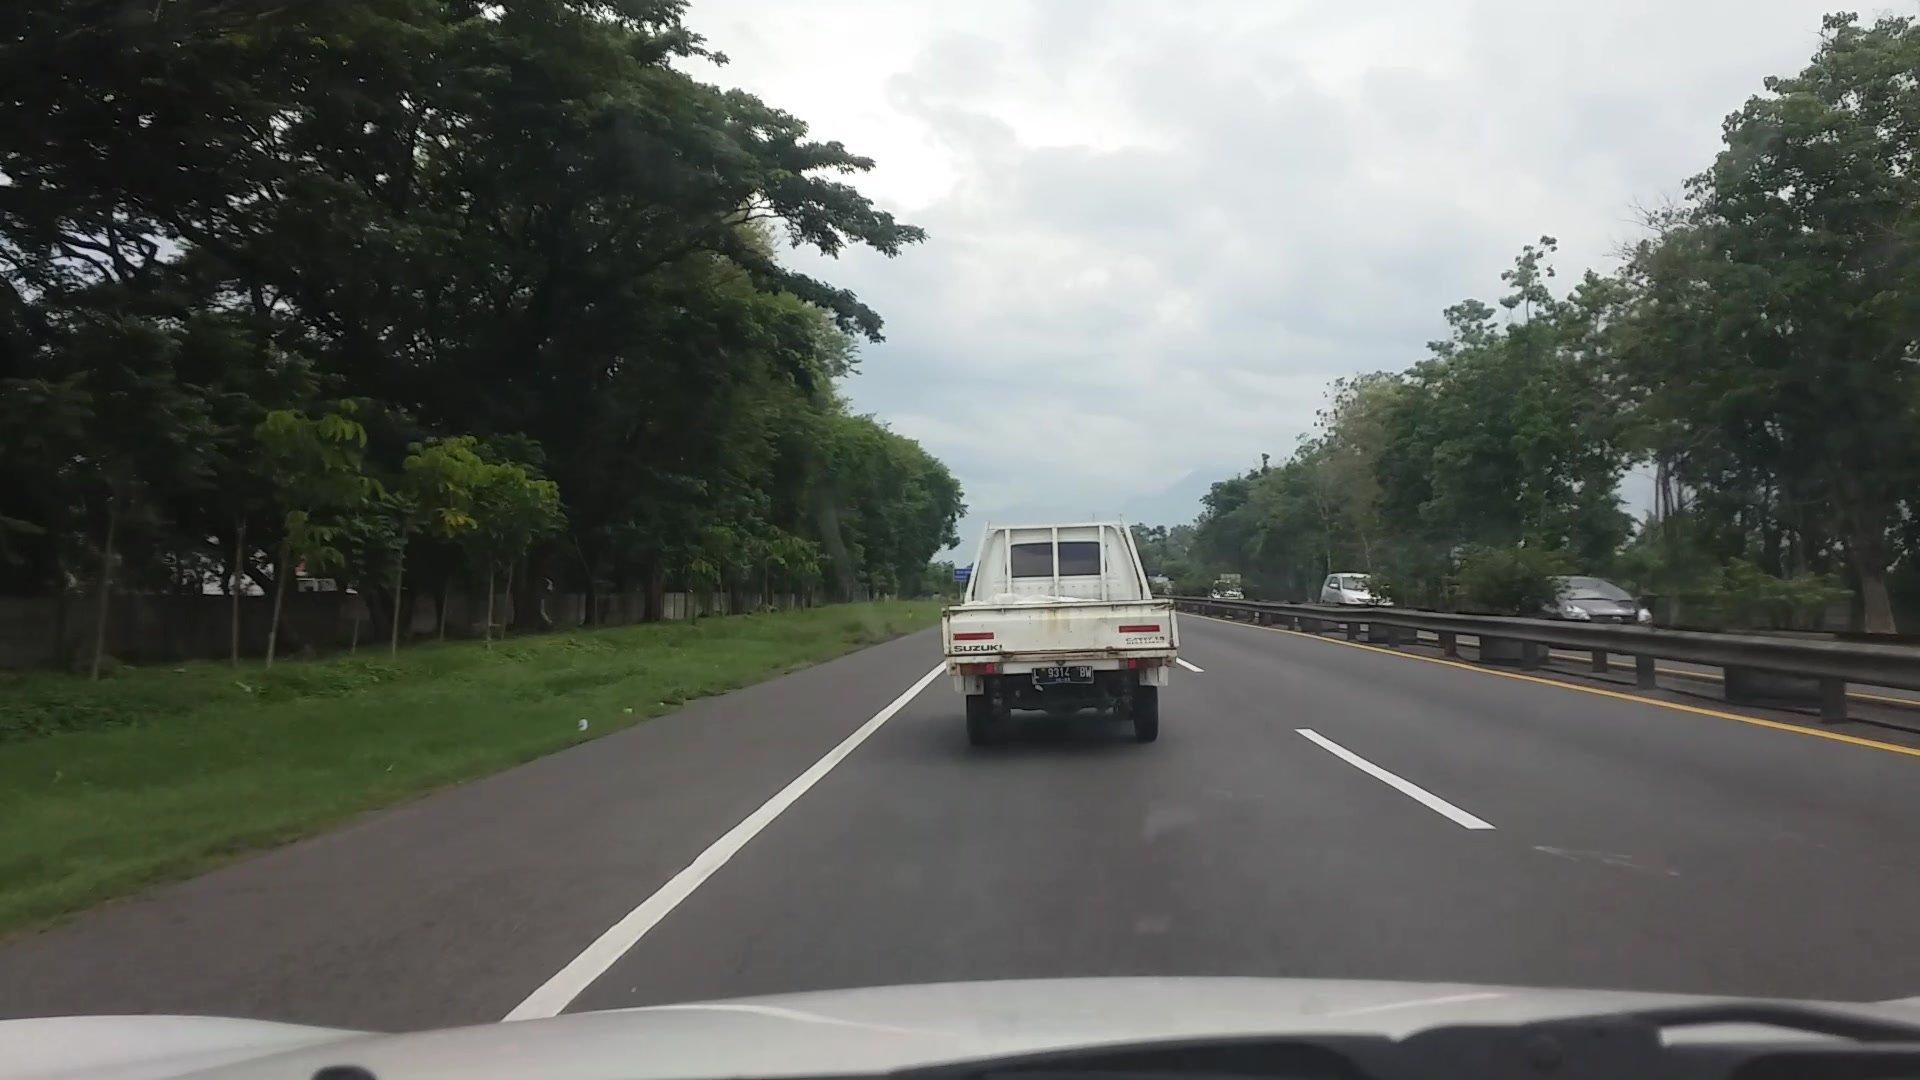plate_positive: (1033, 666, 1095, 684)
